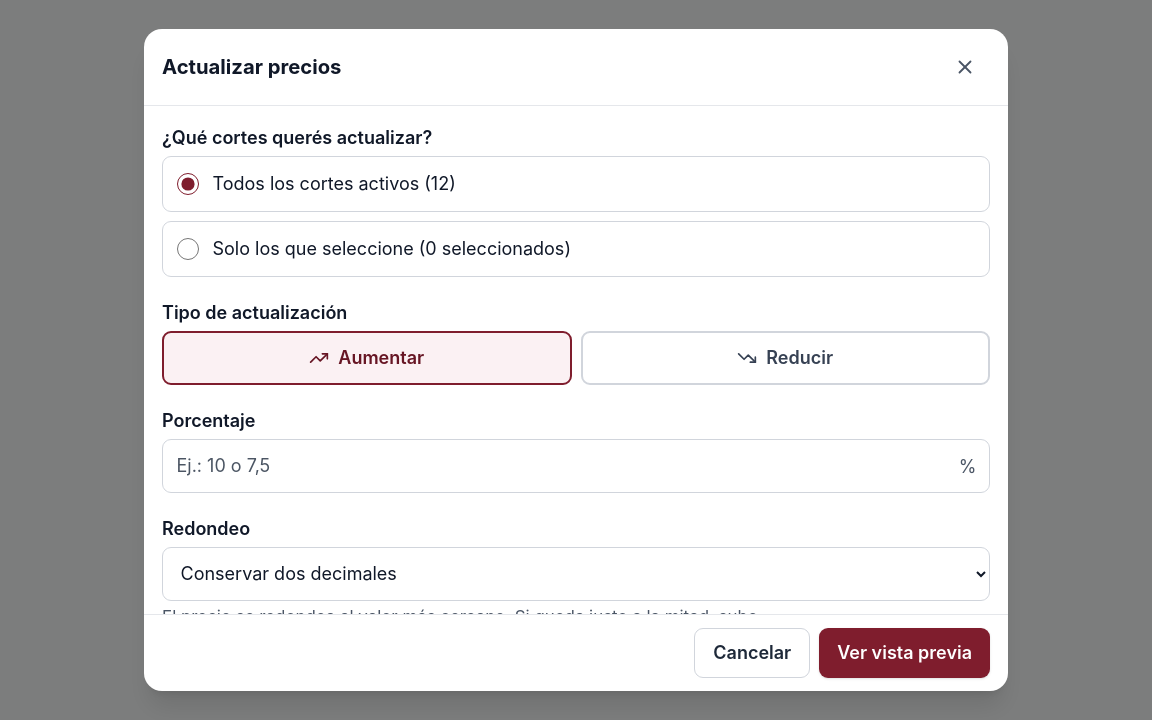
Test: BulkUpdateModal › exige seleccionar al menos un corte
Click the radio button labelled "Solo los que seleccione (0 seleccionados)" at [188, 249], box 176,238 -> 199,260
(page scrolled)
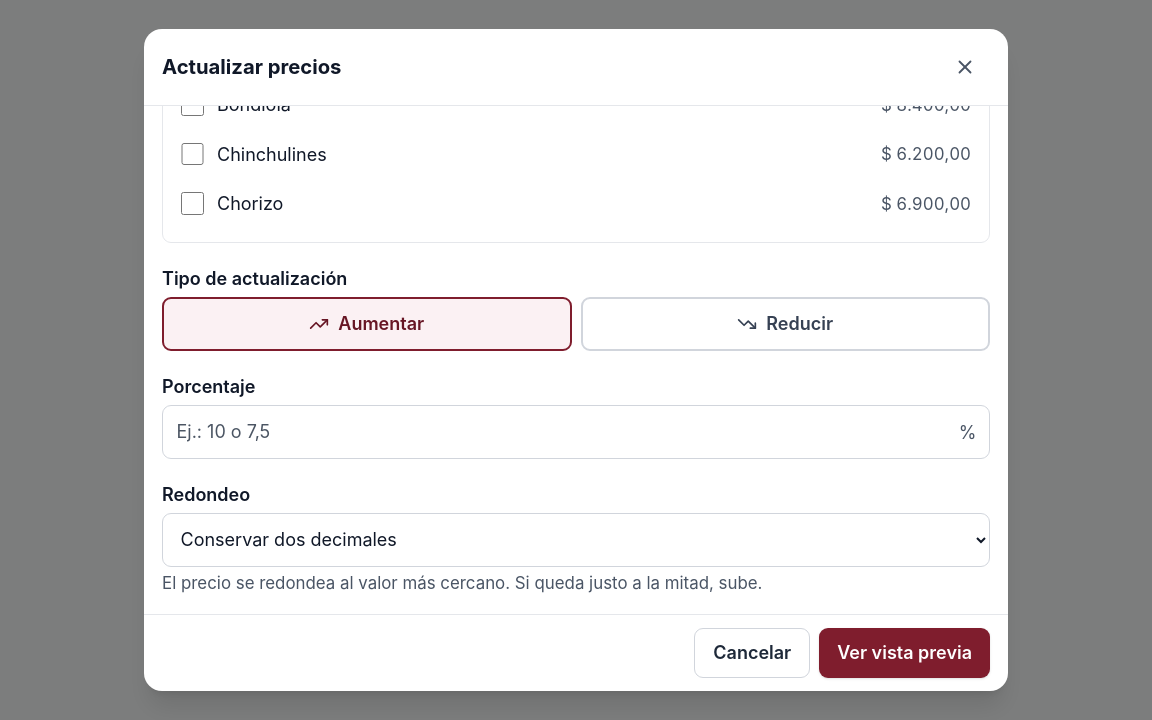
Type "10" into the field labelled "Porcentaje" at [576, 432], box 162,405 -> 990,459
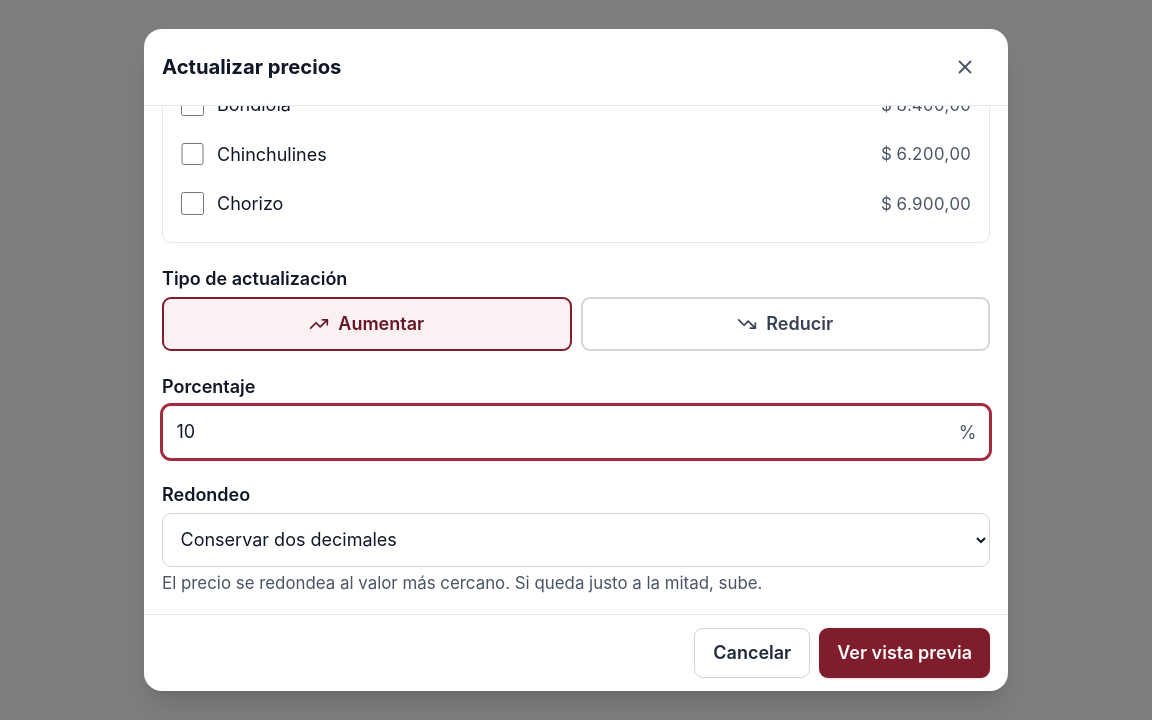
Click the button "Ver vista previa" at [905, 653], box 819,628 -> 990,678
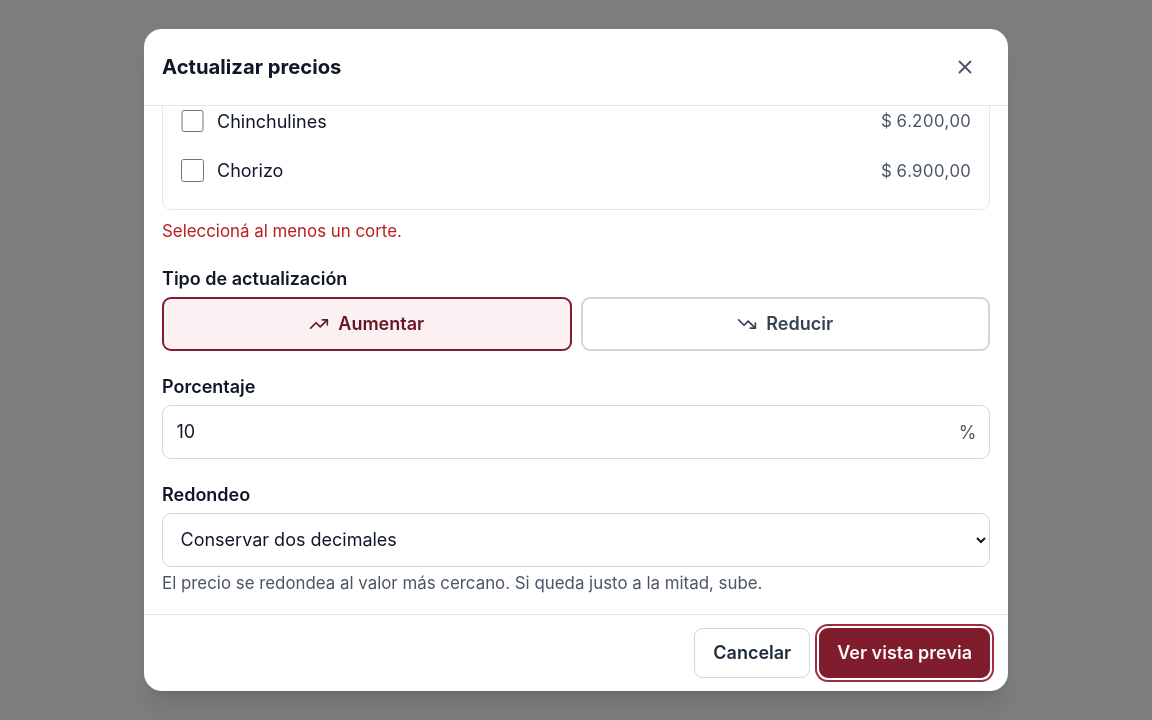
Expected: the message reads "Seleccioná al menos un corte.", 162,221 -> 402,241
